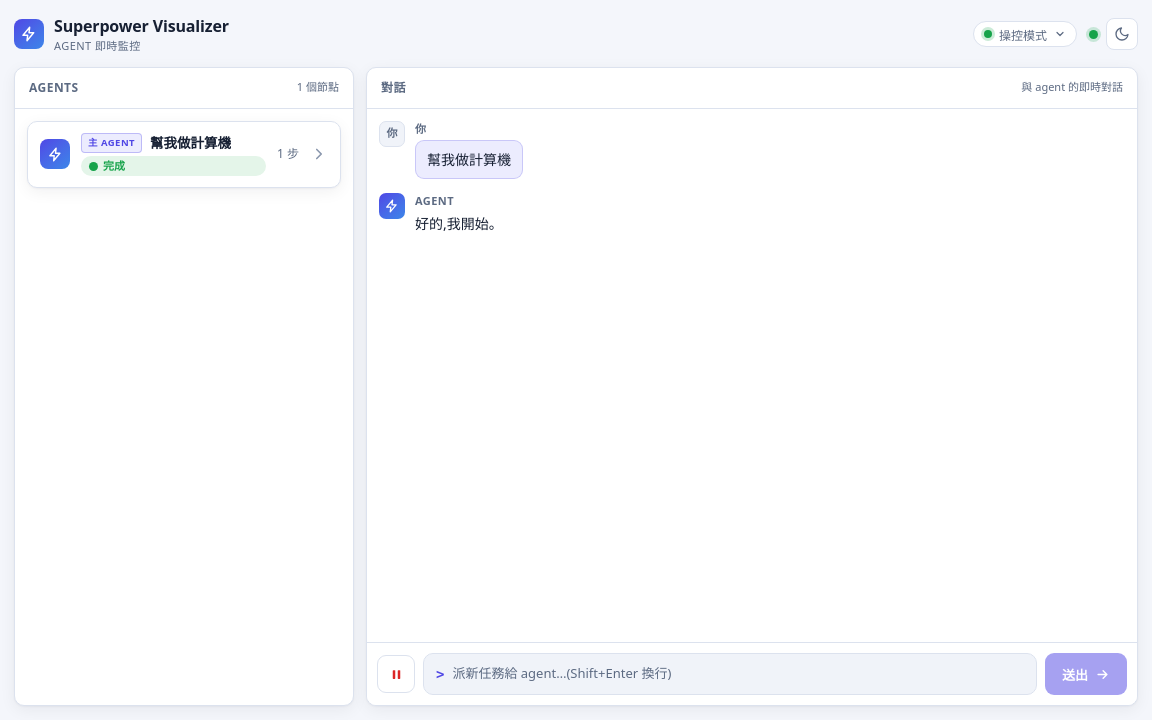
App 整合流程(假 WebSocket 驅動) › 事件流:對話即時顯示,agent 清單點開後彈窗顯示工作項目
This screenshot has width=1152, height=720.
Expected: the text "好的,我開始。" is shown, [415, 214, 503, 232]
Expected: the text "Bash: ls" is not shown
Click the button "主 AGENT 幫我做計算機 完成 1 步" at point(184, 154), box [27, 120, 341, 188]
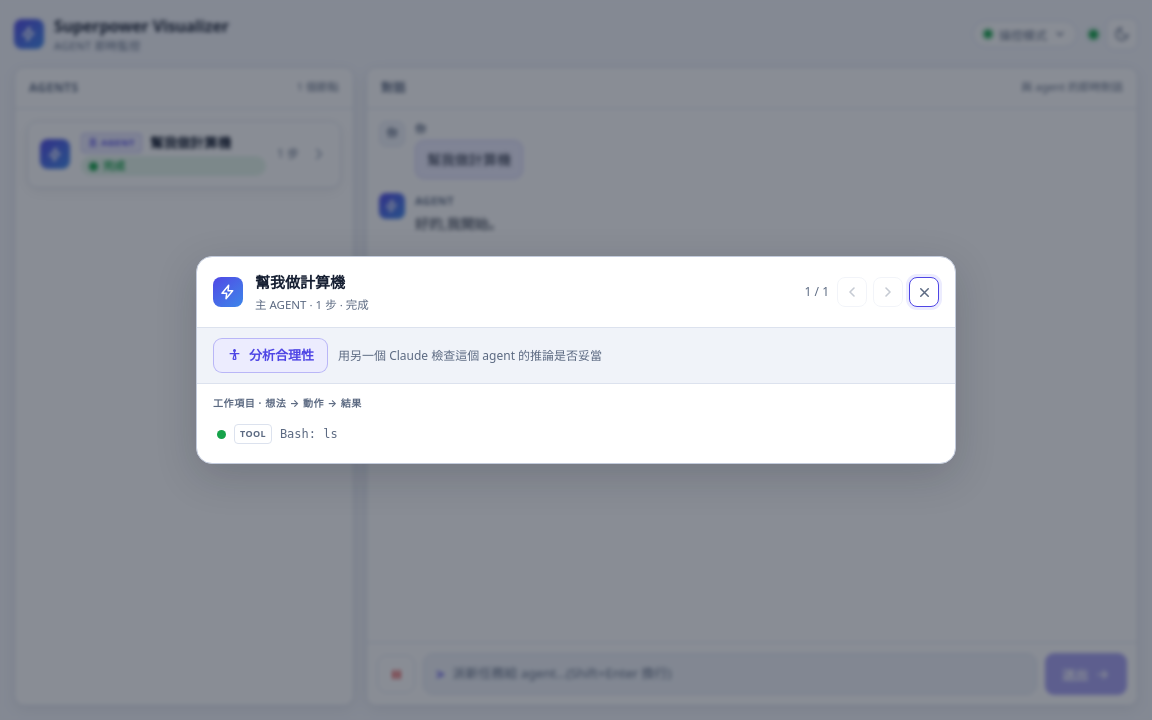
Expected: the text "Bash: ls" is shown, [280, 425, 338, 443]
